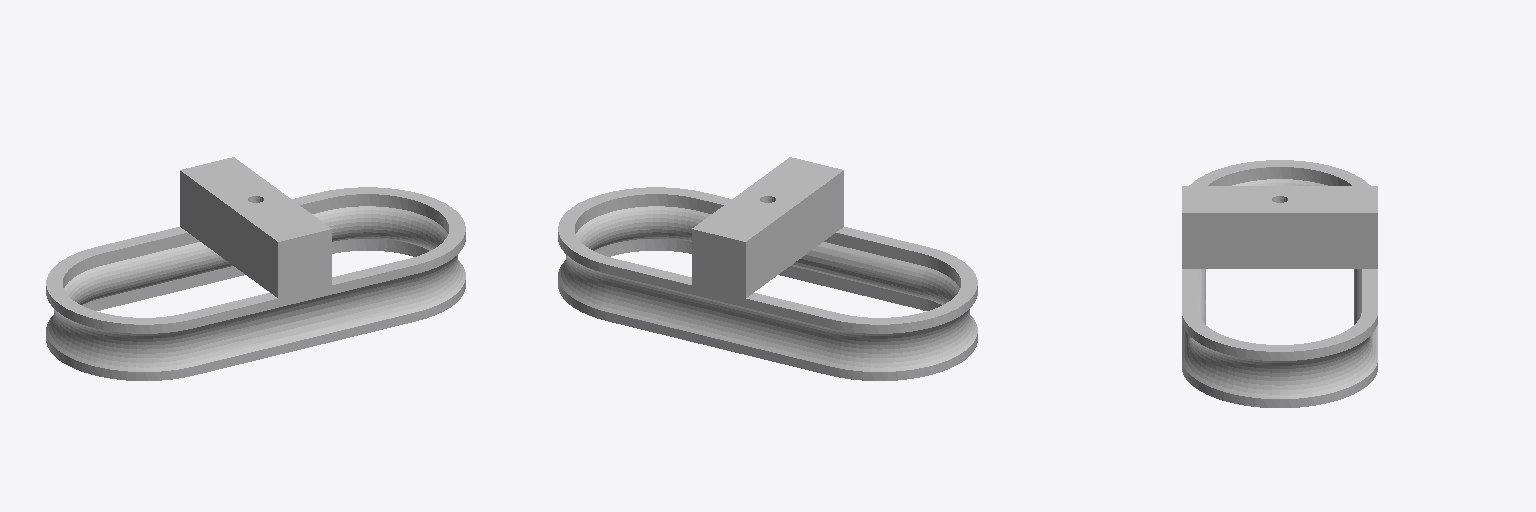
File: walkingCR-wheel-right.obj
3 views of the same model, side by side, from view 1: azimuth 30°, elevation 25°; view 2: azimuth 150°, elevation 25°; view 3: azimuth 270°, elevation 25° (orthographic).
Parts seen in each view (by area): view 1: Root|FGCCWheelWithCentralBar-Right_(Default)|Default|color; view 2: Root|FGCCWheelWithCentralBar-Right_(Default)|Default|color; view 3: Root|FGCCWheelWithCentralBar-Right_(Default)|Default|color.
Part boxes in pixels (x1,y1,x2,y2): Root|FGCCWheelWithCentralBar-Right_(Default)|Default|color: (46, 157, 465, 380); Root|FGCCWheelWithCentralBar-Right_(Default)|Default|color: (558, 157, 977, 380); Root|FGCCWheelWithCentralBar-Right_(Default)|Default|color: (1182, 160, 1377, 407).
Size of the model in its own units: 0.2771 by 0.076 by 0.12.